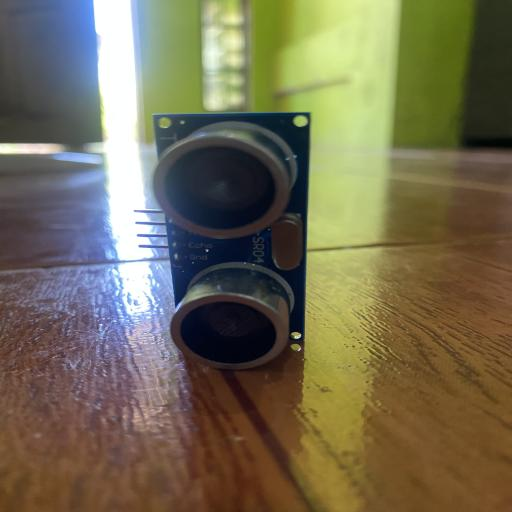Ultrasonic Sensor: (131, 110, 313, 372)
